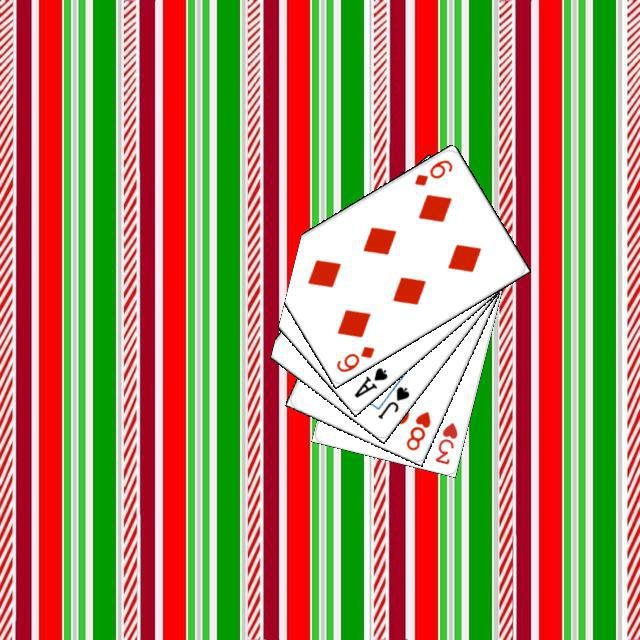3h: (430, 417, 459, 466)
6d: (331, 341, 376, 374), (409, 155, 454, 187)
8h: (401, 406, 432, 452)
As: (349, 362, 389, 400)
Js: (373, 381, 411, 421)
